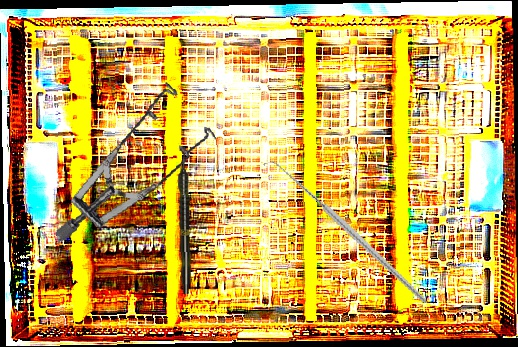Handpiece: (177, 152, 193, 295)
Hook Surgical: (263, 129, 427, 337)
Speculum: (31, 73, 230, 244)
